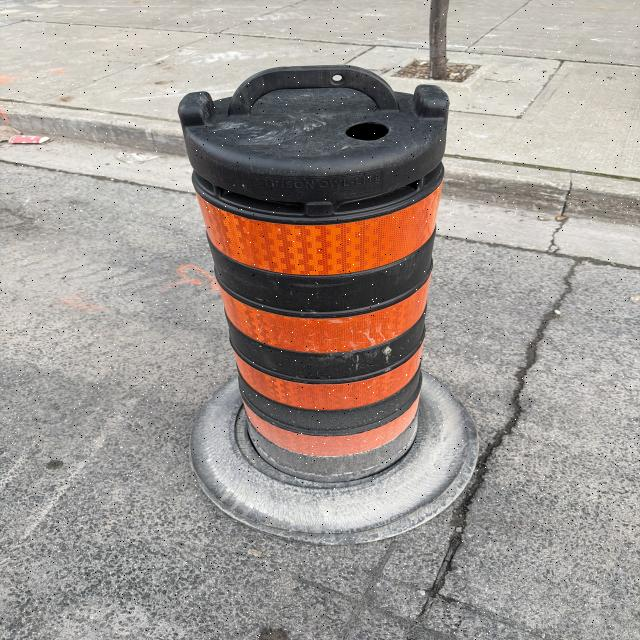Teraffic Barrel: (179, 66, 476, 542)
